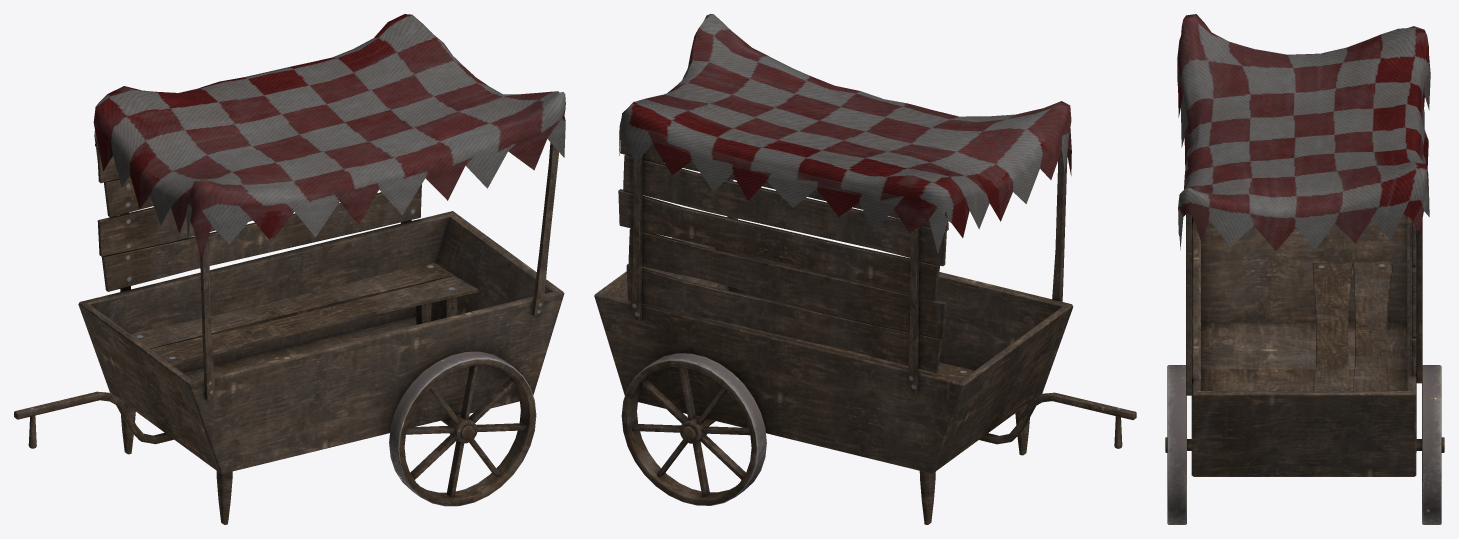
Rendered from MarketCart.fbx.
3 views of the same model, side by side, from view 1: azimuth 30°, elevation 25°; view 2: azimuth 150°, elevation 25°; view 3: azimuth 270°, elevation 25° (orthographic).
Visible parts, largest first — view 1: MarketCartMesh; view 2: MarketCartMesh; view 3: MarketCartMesh.
Boxes of the visible parts, x1=… form: MarketCartMesh: x1=14, y1=14, x2=565, y2=524; MarketCartMesh: x1=594, y1=14, x2=1136, y2=524; MarketCartMesh: x1=1165, y1=14, x2=1444, y2=524.
Size of the model in its own units: 747 by 552 by 365.
Materials: 1 (1 with a texture image).
